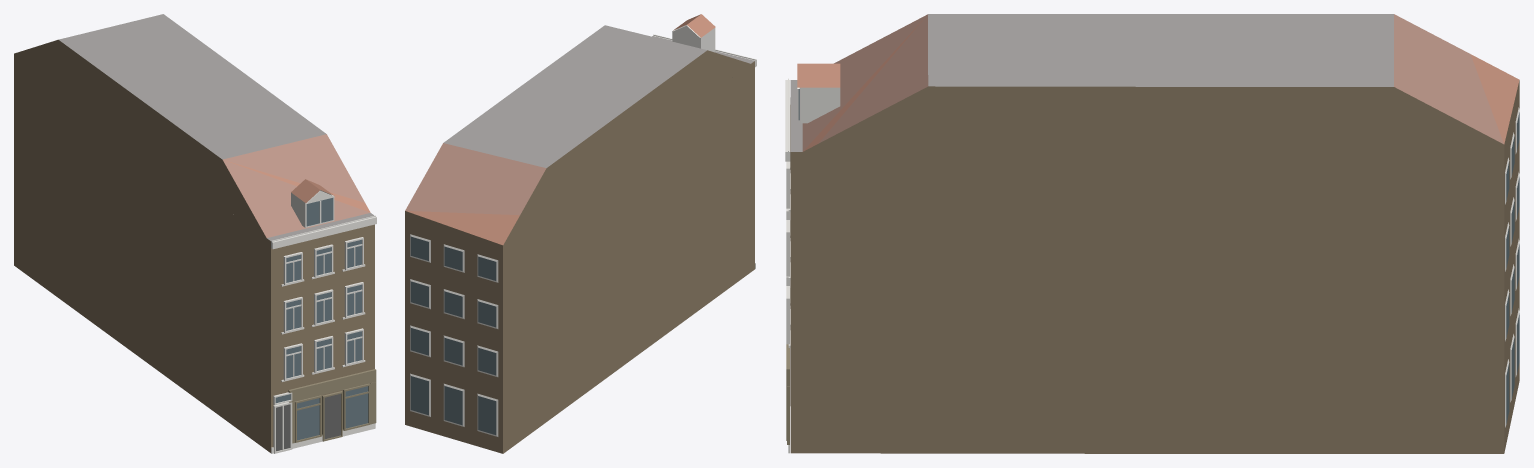
The model's file is chunk-face-groenburgwal-1-37-h2.glb.
The picture shows the model from 3 angles, left to right: view 1: azimuth 30°, elevation 25°; view 2: azimuth 150°, elevation 25°; view 3: azimuth 270°, elevation 25°; orthographic projection. The views are drawn at different scales.
Parts seen in each view (by area): view 1: face-groenburgwal-1-37-h2; view 2: face-groenburgwal-1-37-h2; view 3: face-groenburgwal-1-37-h2.
Part boxes in pixels (<box>): face-groenburgwal-1-37-h2: <box>14,14,376,453</box>; face-groenburgwal-1-37-h2: <box>405,14,756,453</box>; face-groenburgwal-1-37-h2: <box>785,14,1519,453</box>.
Size of the model in its own units: 5.71 by 13.41 by 24.32.
